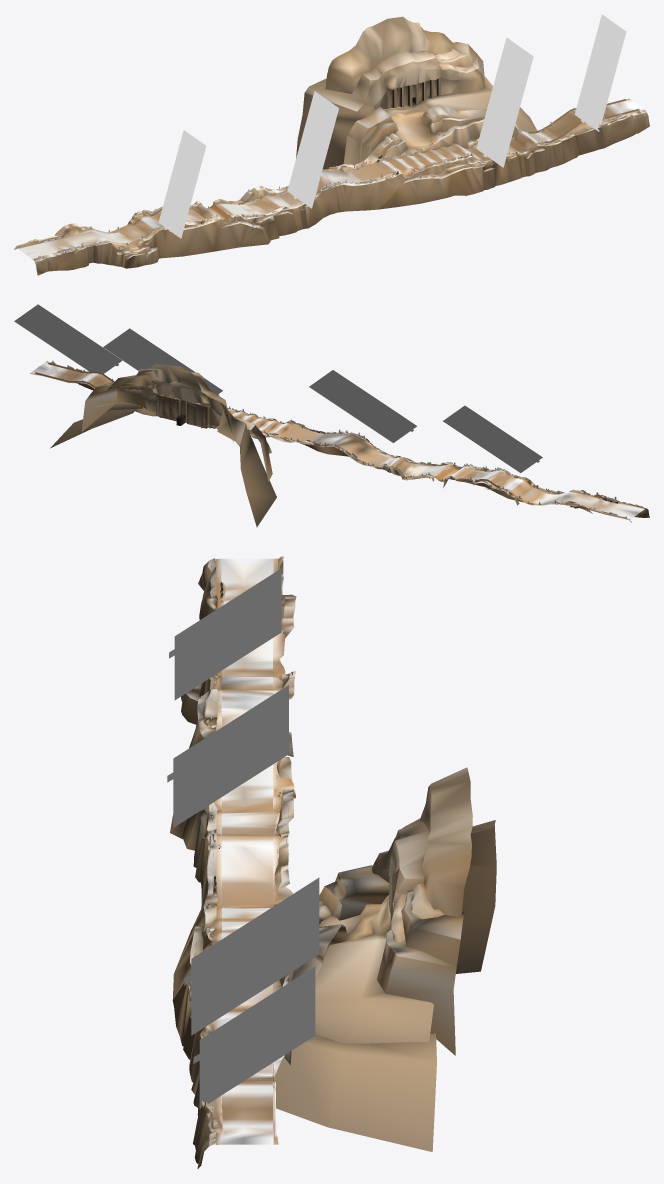
The model's file is Desert_03.fbx.
3 views of the same model, one above another, from view 1: azimuth 30°, elevation 25°; view 2: azimuth 150°, elevation 25°; view 3: azimuth 270°, elevation 25° (orthographic). The views are drawn at different scales.
Parts seen in each view (by area): view 1: Mountain_01, Light_01, Ground_01, Road_01, Tree_01, Ground_02, Pattern_01; view 2: Mountain_01, Light_01, Ground_01, Road_01, Pattern_01, Tree_01, Leak_01; view 3: Mountain_01, Light_01, Ground_01, Road_01, Ground_02.
Boxes of the visible parts, left/top/right/bottom form: Mountain_01: left=14, top=16, right=649, bottom=275; Light_01: left=158, top=14, right=626, bottom=238; Ground_01: left=19, top=99, right=643, bottom=258; Road_01: left=17, top=98, right=644, bottom=259; Tree_01: left=20, top=107, right=645, bottom=259; Ground_02: left=390, top=48, right=468, bottom=149; Pattern_01: left=189, top=77, right=440, bottom=223; Mountain_01: left=46, top=362, right=649, bottom=527; Light_01: left=14, top=304, right=542, bottom=472; Ground_01: left=31, top=363, right=643, bottom=518; Road_01: left=30, top=362, right=644, bottom=519; Pattern_01: left=156, top=394, right=486, bottom=482; Tree_01: left=46, top=360, right=642, bottom=518; Leak_01: left=35, top=362, right=500, bottom=488; Mountain_01: left=170, top=556, right=496, bottom=1168; Light_01: left=167, top=568, right=319, bottom=1108; Ground_01: left=221, top=558, right=278, bottom=1144; Road_01: left=206, top=558, right=295, bottom=1144; Ground_02: left=319, top=883, right=444, bottom=947.
Size of the model in its own units: 32817 by 7130 by 7690.
